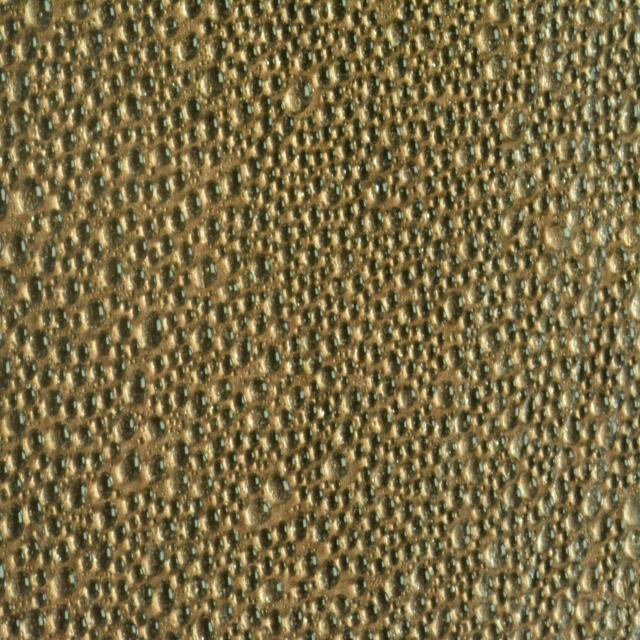dr: (285, 76, 313, 115), (18, 176, 46, 212), (0, 503, 25, 542), (266, 470, 292, 506), (543, 220, 573, 251), (140, 310, 164, 348), (117, 448, 142, 483), (616, 560, 636, 601), (26, 0, 53, 30), (201, 64, 224, 98), (48, 421, 72, 453), (54, 566, 78, 598), (325, 449, 349, 481), (477, 22, 501, 54), (485, 537, 508, 570), (19, 28, 40, 64), (504, 106, 525, 142), (432, 603, 452, 639), (555, 594, 575, 630), (621, 95, 639, 135), (178, 30, 200, 62), (85, 298, 107, 330), (192, 321, 214, 353), (157, 577, 175, 616), (0, 266, 20, 301), (451, 516, 471, 551), (617, 319, 637, 354), (514, 169, 538, 198), (197, 254, 217, 288), (214, 568, 234, 602), (598, 416, 618, 450), (260, 578, 284, 606), (536, 250, 560, 278), (12, 68, 31, 103), (128, 369, 147, 404), (234, 333, 253, 368), (8, 233, 28, 266), (84, 26, 105, 57), (103, 216, 124, 247), (319, 559, 340, 590), (503, 206, 524, 237), (252, 252, 271, 286), (510, 428, 530, 460), (537, 523, 557, 555), (10, 570, 32, 599), (5, 407, 26, 437), (66, 479, 87, 509), (389, 17, 410, 47), (584, 483, 602, 518), (38, 239, 57, 272), (446, 290, 465, 323), (563, 412, 582, 445), (247, 403, 270, 430), (126, 145, 146, 176), (104, 257, 124, 288), (26, 609, 46, 640), (250, 497, 272, 525), (486, 54, 508, 82), (263, 343, 282, 375), (580, 287, 599, 319), (594, 512, 613, 544), (30, 328, 50, 358), (412, 562, 432, 592), (519, 470, 539, 500), (146, 414, 168, 441), (194, 613, 216, 640), (502, 398, 520, 431), (552, 471, 570, 504), (568, 172, 587, 203), (123, 92, 143, 121), (116, 412, 136, 441), (434, 380, 454, 409), (610, 245, 630, 274), (95, 540, 113, 572), (148, 544, 166, 576), (169, 470, 191, 496), (457, 138, 476, 168), (576, 596, 595, 626), (397, 383, 418, 410), (146, 453, 166, 481), (248, 376, 268, 404), (407, 590, 427, 618), (570, 533, 590, 561), (571, 228, 591, 256), (54, 335, 72, 366), (466, 454, 484, 485), (184, 188, 202, 218), (190, 389, 208, 419), (99, 500, 117, 530), (158, 516, 178, 543), (234, 98, 254, 125), (375, 459, 393, 489), (448, 480, 466, 510), (482, 326, 502, 353), (582, 562, 600, 592), (570, 327, 590, 354), (566, 202, 586, 229), (79, 64, 98, 92), (11, 106, 30, 134), (370, 176, 389, 204), (558, 302, 577, 330), (558, 134, 577, 162), (27, 493, 44, 524), (523, 218, 540, 249), (98, 0, 116, 29), (172, 438, 190, 467), (243, 604, 263, 630), (591, 391, 611, 417), (624, 495, 640, 527), (203, 214, 220, 244), (204, 504, 221, 534), (345, 384, 362, 414), (462, 232, 479, 262), (88, 170, 106, 198), (44, 389, 62, 417), (212, 378, 233, 402), (396, 498, 414, 526), (516, 366, 536, 391), (588, 28, 604, 59), (624, 528, 640, 559), (606, 601, 622, 632), (122, 17, 141, 43), (42, 479, 61, 505), (374, 146, 393, 172), (418, 25, 437, 51), (86, 114, 103, 143), (53, 604, 70, 633), (226, 166, 243, 195), (623, 218, 640, 247), (336, 246, 354, 273), (540, 68, 562, 90), (478, 600, 499, 623), (204, 110, 219, 142), (27, 274, 43, 304), (75, 424, 95, 448), (292, 511, 307, 543), (302, 548, 318, 578), (424, 469, 440, 499), (440, 104, 456, 134), (575, 4, 595, 28), (544, 40, 564, 64), (81, 390, 98, 418), (268, 289, 285, 317), (367, 205, 384, 233), (332, 593, 351, 618), (210, 34, 228, 60), (154, 142, 172, 168), (0, 355, 13, 391), (190, 574, 208, 600), (288, 384, 306, 410), (320, 364, 338, 390), (324, 179, 342, 205), (478, 572, 496, 598), (504, 483, 522, 509), (558, 444, 576, 470), (597, 0, 615, 26), (540, 489, 556, 518), (490, 0, 510, 23), (588, 245, 608, 268), (138, 70, 155, 97), (37, 114, 54, 141), (57, 184, 74, 211), (438, 213, 455, 240), (469, 279, 486, 306), (459, 432, 478, 456), (562, 386, 581, 410), (70, 363, 88, 388), (26, 429, 44, 454), (90, 603, 108, 628), (136, 583, 154, 608), (402, 160, 420, 185), (521, 394, 536, 424), (618, 363, 636, 388), (185, 513, 201, 541), (244, 564, 260, 592), (314, 514, 330, 542), (377, 406, 393, 434), (380, 492, 396, 520), (534, 188, 550, 216), (584, 97, 600, 125), (50, 32, 67, 58), (14, 138, 31, 164), (286, 606, 303, 632), (307, 350, 324, 376), (389, 570, 406, 596), (543, 420, 560, 446), (271, 317, 290, 340), (65, 276, 80, 305), (107, 101, 123, 128), (204, 179, 222, 203), (37, 364, 55, 388), (97, 472, 113, 499), (188, 421, 206, 445), (209, 434, 227, 458), (334, 55, 350, 82), (386, 120, 402, 147), (177, 241, 194, 266), (196, 473, 213, 498), (550, 193, 567, 218), (70, 0, 90, 21), (156, 176, 171, 204), (171, 204, 185, 234), (268, 607, 283, 635), (239, 202, 254, 230), (431, 71, 446, 99), (48, 208, 64, 234), (159, 263, 175, 289), (314, 62, 330, 88), (420, 143, 436, 169), (473, 176, 489, 202), (556, 356, 572, 382), (329, 0, 347, 23), (502, 249, 520, 272), (75, 218, 92, 242), (95, 331, 112, 355), (21, 382, 38, 406), (181, 542, 198, 566), (352, 552, 369, 576), (338, 318, 352, 347), (263, 19, 278, 46), (376, 586, 391, 613), (3, 15, 19, 40), (124, 179, 140, 204), (219, 404, 235, 429), (342, 29, 358, 54), (391, 53, 407, 78), (456, 409, 472, 434), (448, 344, 464, 369), (513, 31, 529, 56), (577, 139, 593, 164), (0, 179, 9, 223), (121, 618, 139, 640), (566, 509, 584, 531), (542, 290, 560, 312), (60, 129, 77, 152), (45, 515, 62, 538), (304, 329, 321, 352), (247, 74, 264, 97), (61, 153, 76, 179), (176, 601, 191, 627), (324, 331, 339, 357), (298, 46, 313, 72), (366, 72, 381, 98), (442, 552, 457, 578), (420, 496, 435, 522), (144, 39, 160, 63), (120, 62, 136, 86), (219, 326, 235, 350), (11, 445, 27, 469), (145, 616, 161, 640), (252, 310, 268, 334), (323, 611, 339, 635), (364, 600, 380, 624), (402, 299, 418, 323), (568, 255, 584, 279), (614, 276, 630, 300), (624, 394, 640, 418), (70, 100, 84, 127), (340, 418, 354, 445), (256, 206, 270, 233), (307, 203, 321, 230), (530, 330, 548, 351), (527, 271, 540, 300), (133, 237, 148, 262), (14, 323, 29, 348), (73, 525, 88, 550), (73, 613, 88, 638), (174, 383, 189, 408), (379, 320, 394, 345), (399, 266, 414, 291), (505, 509, 520, 534), (278, 408, 295, 430), (320, 101, 337, 123), (80, 147, 96, 170), (54, 306, 70, 329), (265, 428, 281, 451), (280, 242, 296, 265), (300, 2, 316, 25), (508, 571, 524, 594), (603, 321, 619, 344), (592, 459, 608, 482), (170, 104, 184, 130), (190, 144, 204, 170), (387, 350, 401, 376), (467, 385, 481, 411), (479, 134, 492, 162), (214, 0, 232, 20), (117, 315, 132, 339), (52, 454, 67, 478), (56, 540, 71, 564), (115, 578, 130, 602), (297, 446, 312, 470), (304, 400, 319, 424), (246, 155, 261, 179), (305, 22, 320, 46), (446, 251, 461, 275), (437, 146, 452, 170), (492, 432, 507, 456), (499, 610, 514, 634), (578, 458, 593, 482), (550, 168, 568, 188), (598, 221, 613, 245), (245, 473, 262, 494), (554, 271, 571, 292), (224, 279, 240, 301), (6, 615, 22, 637), (399, 0, 415, 22), (498, 353, 514, 375), (484, 416, 500, 438), (614, 454, 630, 476), (227, 249, 241, 274), (220, 352, 234, 377), (345, 526, 359, 551), (361, 482, 375, 507), (382, 373, 396, 398), (527, 565, 541, 590), (626, 29, 640, 54), (570, 482, 584, 507), (576, 355, 588, 384), (61, 80, 76, 103), (105, 133, 120, 156), (89, 239, 104, 262), (219, 600, 234, 623), (290, 352, 305, 375), (409, 199, 424, 222), (424, 99, 439, 122), (518, 140, 533, 163), (484, 485, 499, 508), (611, 388, 626, 411), (185, 0, 203, 19), (550, 332, 568, 351), (504, 318, 517, 344), (244, 41, 258, 65), (150, 0, 166, 21), (124, 208, 138, 232), (64, 395, 78, 419), (306, 244, 320, 268), (260, 111, 274, 135), (281, 112, 295, 136), (364, 97, 378, 121), (268, 72, 282, 96), (414, 619, 430, 640), (532, 2, 546, 26), (510, 300, 526, 321), (537, 614, 551, 638), (538, 366, 554, 387), (513, 344, 529, 365), (527, 121, 543, 142), (586, 175, 602, 196), (588, 206, 602, 230), (626, 193, 640, 217), (186, 98, 201, 120), (108, 156, 123, 178), (171, 285, 186, 307), (389, 206, 404, 228), (361, 530, 376, 552), (397, 616, 412, 638), (421, 174, 436, 196), (397, 81, 412, 103), (503, 459, 518, 481), (583, 418, 598, 440), (5, 306, 18, 331), (102, 386, 115, 411), (160, 392, 173, 417), (410, 513, 423, 538), (470, 502, 488, 520), (142, 13, 156, 36), (2, 43, 16, 66), (142, 217, 156, 240), (208, 145, 222, 168), (132, 266, 146, 289), (238, 232, 252, 255), (350, 271, 364, 294), (318, 225, 332, 248), (254, 136, 268, 159), (339, 159, 353, 182), (336, 224, 350, 247), (395, 415, 409, 438), (522, 81, 536, 104), (546, 17, 560, 40), (556, 542, 570, 565), (626, 4, 640, 27), (112, 358, 128, 378), (592, 156, 608, 176), (32, 153, 47, 174), (406, 137, 421, 158), (474, 360, 489, 381), (554, 95, 569, 116), (108, 72, 121, 96), (1, 124, 14, 148), (197, 362, 210, 386), (27, 537, 40, 561), (310, 484, 323, 508), (342, 97, 355, 121), (278, 44, 290, 70), (410, 408, 423, 432), (440, 44, 453, 68), (164, 16, 178, 38), (46, 89, 60, 111), (172, 168, 186, 190), (76, 341, 90, 363), (214, 302, 228, 324), (9, 474, 23, 496), (200, 552, 214, 574), (226, 528, 240, 550), (259, 528, 273, 550), (341, 138, 355, 160), (284, 0, 298, 22), (360, 37, 374, 59), (456, 599, 470, 621), (444, 437, 458, 459), (418, 224, 432, 246), (418, 298, 432, 320), (441, 192, 455, 214), (513, 4, 527, 26), (519, 526, 533, 548), (540, 311, 554, 333), (559, 6, 573, 28), (537, 158, 551, 180), (484, 622, 501, 640), (604, 492, 620, 511), (403, 459, 418, 479), (431, 441, 443, 466), (437, 413, 449, 438), (467, 486, 482, 506), (473, 520, 488, 540), (413, 256, 425, 281), (510, 547, 522, 572), (622, 418, 637, 438), (155, 113, 168, 136), (73, 451, 86, 474), (261, 554, 274, 577), (312, 438, 325, 461), (297, 147, 310, 170), (469, 114, 482, 137), (615, 18, 628, 41), (599, 92, 612, 115), (160, 235, 174, 256), (233, 391, 247, 412), (130, 563, 144, 584), (226, 482, 240, 503), (286, 429, 300, 450), (332, 276, 346, 297), (352, 213, 366, 234), (366, 510, 380, 531), (354, 576, 368, 597), (468, 60, 482, 81), (493, 170, 507, 191), (437, 0, 454, 17), (352, 502, 364, 526), (436, 304, 448, 328), (428, 263, 440, 287), (110, 188, 123, 210), (87, 578, 100, 600), (126, 490, 139, 512), (116, 40, 129, 62), (326, 490, 339, 512), (242, 290, 255, 312), (274, 194, 287, 216), (360, 318, 373, 340), (369, 342, 382, 364), (372, 299, 385, 321), (430, 536, 443, 558), (517, 604, 530, 626), (601, 48, 614, 70), (249, 0, 264, 19), (601, 138, 616, 157), (587, 267, 602, 286), (173, 326, 187, 346), (90, 450, 104, 470), (113, 522, 127, 542), (194, 450, 208, 470), (34, 590, 48, 610), (211, 535, 225, 555), (278, 222, 292, 242), (366, 123, 380, 143), (495, 270, 509, 290), (480, 304, 494, 324), (470, 344, 484, 364), (597, 366, 611, 386), (81, 549, 93, 572), (358, 158, 370, 181), (356, 340, 367, 365), (202, 15, 215, 36), (231, 428, 244, 449), (348, 299, 361, 320), (342, 201, 355, 222), (420, 320, 433, 341), (447, 23, 460, 44), (482, 377, 495, 398), (339, 623, 355, 640), (138, 507, 152, 526), (248, 429, 262, 448), (372, 557, 386, 576), (469, 548, 483, 567), (542, 347, 556, 366), (569, 560, 583, 579), (225, 449, 237, 471), (276, 519, 288, 541), (380, 37, 392, 59), (351, 178, 363, 200), (386, 290, 398, 312), (424, 415, 436, 437), (444, 580, 456, 602), (418, 119, 430, 141), (504, 148, 516, 170), (514, 276, 526, 298), (505, 374, 517, 396), (530, 504, 542, 526), (601, 344, 613, 366), (604, 24, 616, 46), (629, 62, 640, 86), (0, 66, 9, 95), (49, 60, 62, 80), (92, 88, 105, 108), (172, 130, 185, 150), (25, 360, 38, 380), (224, 224, 237, 244), (141, 485, 154, 505), (191, 496, 204, 516), (271, 130, 284, 150), (368, 431, 381, 451), (415, 538, 428, 558), (435, 352, 448, 372), (411, 340, 424, 360), (411, 65, 424, 85), (478, 78, 491, 98), (480, 98, 493, 118), (556, 569, 569, 589), (621, 140, 634, 160), (513, 626, 533, 639), (433, 238, 444, 261), (577, 44, 588, 67), (28, 92, 40, 113), (168, 80, 180, 101), (168, 347, 180, 368), (181, 344, 193, 365), (36, 567, 48, 588), (176, 567, 188, 588), (242, 448, 256, 466), (241, 268, 253, 289), (308, 282, 320, 303), (392, 444, 404, 465), (403, 438, 415, 459), (382, 262, 394, 283), (390, 228, 402, 249), (455, 176, 467, 197), (550, 398, 562, 419), (599, 75, 613, 93), (572, 622, 586, 640), (284, 453, 297, 472), (367, 258, 380, 277), (436, 520, 449, 539), (486, 455, 499, 474), (588, 61, 601, 80), (612, 517, 625, 536), (605, 175, 618, 194), (341, 486, 352, 508), (64, 20, 76, 40), (105, 51, 117, 71), (142, 179, 154, 199), (180, 68, 192, 88), (74, 250, 86, 270), (93, 360, 105, 380), (153, 354, 165, 374), (13, 547, 25, 567), (246, 544, 258, 564), (297, 580, 309, 600), (336, 512, 348, 532), (302, 425, 314, 445), (321, 400, 333, 420), (300, 307, 312, 327), (289, 333, 301, 353), (312, 305, 324, 325), (312, 174, 324, 194), (300, 183, 312, 203), (320, 122, 332, 142), (350, 8, 362, 28), (350, 116, 362, 136), (405, 358, 417, 378), (460, 208, 472, 228), (416, 82, 428, 102), (531, 28, 543, 48), (493, 376, 505, 396), (538, 387, 550, 407), (547, 576, 559, 596), (509, 240, 524, 256), (618, 174, 630, 194), (84, 200, 98, 217), (168, 498, 181, 516), (233, 587, 246, 605), (273, 98, 286, 116), (459, 362, 472, 380), (491, 146, 504, 164), (489, 254, 502, 272), (582, 440, 595, 458), (562, 48, 575, 66), (232, 555, 243, 576), (407, 223, 418, 244), (419, 2, 430, 23), (496, 586, 507, 607), (578, 70, 589, 91), (41, 308, 53, 327), (130, 338, 142, 357), (108, 440, 120, 459), (110, 605, 122, 624), (168, 553, 180, 572), (353, 442, 365, 461), (248, 183, 260, 202), (285, 143, 297, 162), (295, 128, 307, 147), (222, 119, 234, 138), (260, 94, 272, 113), (280, 22, 292, 41), (367, 450, 379, 469), (459, 554, 471, 573), (398, 322, 410, 341), (510, 72, 522, 91), (502, 190, 514, 209), (534, 587, 546, 606), (600, 284, 612, 303), (611, 62, 623, 81), (612, 191, 624, 210), (31, 215, 44, 232), (426, 208, 439, 225), (0, 97, 11, 117), (101, 578, 112, 598), (262, 185, 273, 205), (367, 8, 378, 28), (344, 356, 355, 376), (461, 266, 472, 286), (406, 118, 417, 138), (491, 211, 502, 231), (618, 47, 629, 67), (34, 57, 46, 75), (164, 59, 176, 77), (57, 105, 69, 123), (48, 174, 60, 192), (240, 15, 252, 33), (63, 236, 75, 254), (60, 256, 72, 274), (166, 310, 178, 328), (128, 532, 140, 550), (314, 594, 326, 612), (282, 266, 294, 284), (296, 220, 308, 238), (286, 184, 298, 202), (264, 166, 276, 184), (270, 149, 282, 167), (370, 278, 382, 296), (418, 434, 430, 452), (425, 343, 437, 361), (451, 459, 463, 477), (472, 3, 484, 21), (522, 252, 534, 270), (486, 289, 498, 307), (530, 605, 542, 623), (569, 581, 581, 599), (570, 87, 582, 105), (570, 279, 582, 297), (550, 380, 562, 398), (613, 351, 625, 369), (603, 577, 615, 595), (359, 626, 374, 640), (378, 625, 392, 640), (542, 469, 556, 484), (201, 295, 212, 314), (213, 458, 224, 477), (339, 552, 350, 571), (297, 272, 308, 291), (313, 148, 324, 167), (367, 389, 378, 408), (488, 116, 499, 135), (608, 296, 619, 315), (619, 434, 630, 453), (0, 460, 9, 483), (120, 126, 132, 143), (134, 125, 146, 142), (38, 452, 50, 469), (94, 415, 106, 432), (308, 379, 320, 396), (294, 290, 306, 307), (332, 84, 344, 101), (356, 197, 368, 214), (388, 548, 400, 565), (517, 326, 529, 343), (536, 107, 548, 124), (611, 158, 623, 175), (612, 90, 624, 107), (536, 140, 548, 157), (42, 544, 52, 564), (330, 534, 340, 554), (327, 310, 337, 330), (536, 458, 546, 478), (581, 119, 591, 139), (148, 247, 159, 265), (114, 556, 125, 574), (2, 600, 13, 618), (226, 204, 237, 222), (233, 82, 244, 100), (265, 53, 276, 71), (382, 76, 393, 94), (469, 614, 480, 632), (462, 309, 473, 327), (440, 458, 451, 476), (483, 226, 494, 244), (432, 12, 443, 30), (463, 80, 474, 98), (589, 353, 598, 375), (568, 66, 579, 84), (567, 25, 578, 43), (622, 603, 633, 621), (547, 0, 560, 15), (44, 142, 56, 158), (456, 12, 468, 28), (596, 192, 608, 208), (613, 212, 625, 228), (371, 368, 381, 387), (468, 95, 478, 114), (543, 556, 553, 575), (542, 90, 552, 109), (600, 556, 610, 575), (63, 62, 74, 79), (8, 165, 19, 182), (190, 227, 201, 244), (114, 341, 125, 358), (33, 469, 44, 486), (135, 609, 146, 626), (44, 282, 55, 299), (229, 509, 240, 526), (313, 464, 324, 481), (336, 296, 347, 313), (275, 175, 286, 192), (309, 129, 320, 146), (358, 409, 369, 426), (360, 465, 371, 482), (424, 381, 435, 398), (481, 245, 492, 262), (451, 78, 462, 95), (534, 421, 545, 438), (525, 311, 536, 328), (573, 105, 584, 122), (608, 472, 619, 489), (596, 615, 607, 632), (156, 211, 166, 229), (72, 312, 82, 330), (154, 497, 164, 515), (318, 264, 328, 282), (324, 293, 334, 311), (318, 2, 328, 20), (393, 473, 403, 491), (351, 610, 361, 628), (398, 526, 408, 544), (381, 244, 391, 262), (400, 185, 410, 203), (418, 452, 428, 470), (416, 373, 426, 391), (465, 569, 475, 587), (454, 394, 466, 409), (578, 403, 588, 421), (556, 118, 566, 136), (545, 594, 555, 612), (298, 485, 309, 501), (260, 234, 271, 250), (416, 282, 427, 298), (474, 215, 485, 231), (499, 83, 510, 99), (480, 201, 491, 217), (519, 511, 530, 527), (629, 436, 640, 452), (602, 118, 613, 134), (523, 64, 534, 80), (529, 45, 538, 64), (631, 172, 640, 191), (83, 278, 93, 295), (145, 289, 155, 306), (286, 540, 296, 557), (316, 417, 326, 434), (233, 129, 243, 146), (333, 389, 343, 406), (402, 245, 412, 262), (441, 173, 451, 190), (530, 437, 540, 454), (268, 0, 281, 13), (429, 194, 442, 207), (494, 304, 506, 318), (507, 534, 519, 548), (445, 273, 456, 288), (599, 597, 610, 612), (631, 468, 640, 486), (631, 248, 640, 266), (1, 150, 11, 166), (110, 293, 120, 309), (184, 308, 194, 324), (182, 270, 192, 286), (163, 371, 173, 387), (22, 468, 32, 484), (140, 527, 150, 543), (150, 99, 160, 115), (206, 596, 216, 612), (272, 542, 282, 558), (305, 612, 315, 628), (209, 417, 219, 433), (220, 140, 230, 156), (306, 114, 316, 130), (328, 162, 338, 178), (354, 57, 364, 73), (360, 233, 370, 249), (388, 610, 398, 626), (428, 366, 438, 382), (458, 52, 468, 68), (490, 86, 500, 102), (476, 411, 486, 427), (508, 595, 518, 611), (532, 352, 542, 368), (536, 241, 546, 257), (598, 306, 608, 322), (125, 550, 136, 564), (88, 626, 99, 640), (148, 273, 157, 290), (286, 300, 295, 317), (400, 104, 409, 121), (153, 377, 163, 392), (216, 243, 226, 258), (86, 261, 96, 276), (132, 1, 142, 16), (224, 550, 234, 565), (322, 207, 332, 222), (388, 182, 398, 197), (364, 142, 374, 157), (436, 284, 446, 299), (464, 168, 474, 183), (486, 164, 496, 179), (522, 590, 532, 605), (619, 305, 629, 320), (620, 474, 630, 489), (612, 107, 622, 122), (622, 624, 632, 639), (129, 515, 138, 531), (132, 302, 141, 318), (288, 561, 297, 577), (327, 146, 336, 162), (332, 26, 341, 42), (372, 234, 381, 250), (388, 530, 397, 546), (438, 499, 447, 515), (480, 438, 489, 454), (546, 117, 555, 133), (68, 46, 78, 60), (174, 151, 184, 165), (274, 380, 284, 394), (295, 470, 305, 484), (340, 375, 350, 389), (422, 398, 432, 412), (466, 586, 476, 600), (460, 329, 470, 343), (410, 101, 420, 115), (486, 514, 496, 528), (567, 119, 577, 133), (624, 268, 634, 282), (526, 201, 536, 215), (315, 48, 324, 63), (325, 44, 334, 59), (457, 100, 466, 115), (409, 39, 418, 54), (482, 400, 491, 415), (595, 322, 604, 337), (542, 443, 551, 458), (146, 132, 156, 145), (569, 163, 579, 176), (592, 127, 602, 140), (216, 488, 224, 504), (220, 503, 228, 519), (426, 521, 434, 537), (528, 454, 536, 470), (620, 76, 628, 92), (40, 44, 49, 58), (74, 174, 83, 188), (245, 134, 254, 148), (299, 169, 308, 183), (355, 75, 364, 89), (388, 104, 397, 118), (350, 234, 359, 248), (363, 288, 372, 302), (382, 441, 391, 455), (439, 478, 448, 492), (457, 580, 466, 594), (392, 314, 401, 328), (449, 330, 458, 344), (431, 163, 440, 177), (625, 161, 634, 175), (557, 506, 566, 520), (120, 0, 130, 12), (329, 419, 337, 434), (376, 23, 384, 38), (392, 253, 400, 268), (580, 28, 588, 43), (549, 139, 557, 154), (32, 406, 41, 419), (164, 45, 173, 58), (288, 170, 297, 183), (474, 162, 483, 175), (550, 443, 559, 456), (192, 296, 200, 310), (231, 622, 239, 636), (278, 559, 286, 573), (356, 92, 364, 106), (437, 332, 445, 346), (450, 166, 458, 180), (584, 376, 592, 390), (158, 77, 166, 90), (28, 232, 36, 245), (293, 256, 301, 269), (271, 240, 279, 253), (392, 170, 400, 183), (511, 91, 519, 104), (552, 621, 560, 634), (556, 520, 564, 533), (122, 299, 130, 311), (274, 396, 282, 408), (380, 524, 388, 536), (506, 24, 514, 36), (516, 58, 524, 70), (497, 100, 505, 112), (603, 542, 611, 554), (594, 447, 602, 459), (259, 290, 266, 303), (325, 251, 332, 264), (411, 323, 418, 336), (547, 458, 556, 468), (150, 394, 158, 405), (357, 427, 364, 439), (458, 384, 466, 394), (562, 529, 568, 541), (20, 17, 26, 28)
